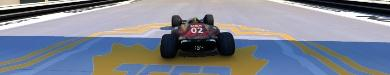Car: (159, 14, 235, 57)
